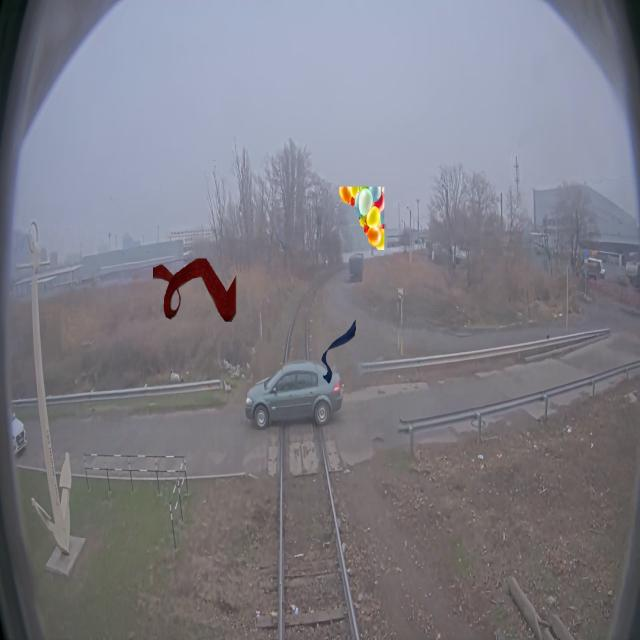balloon: (339, 186, 384, 250)
floating object: (153, 258, 237, 322), (321, 320, 356, 384)
